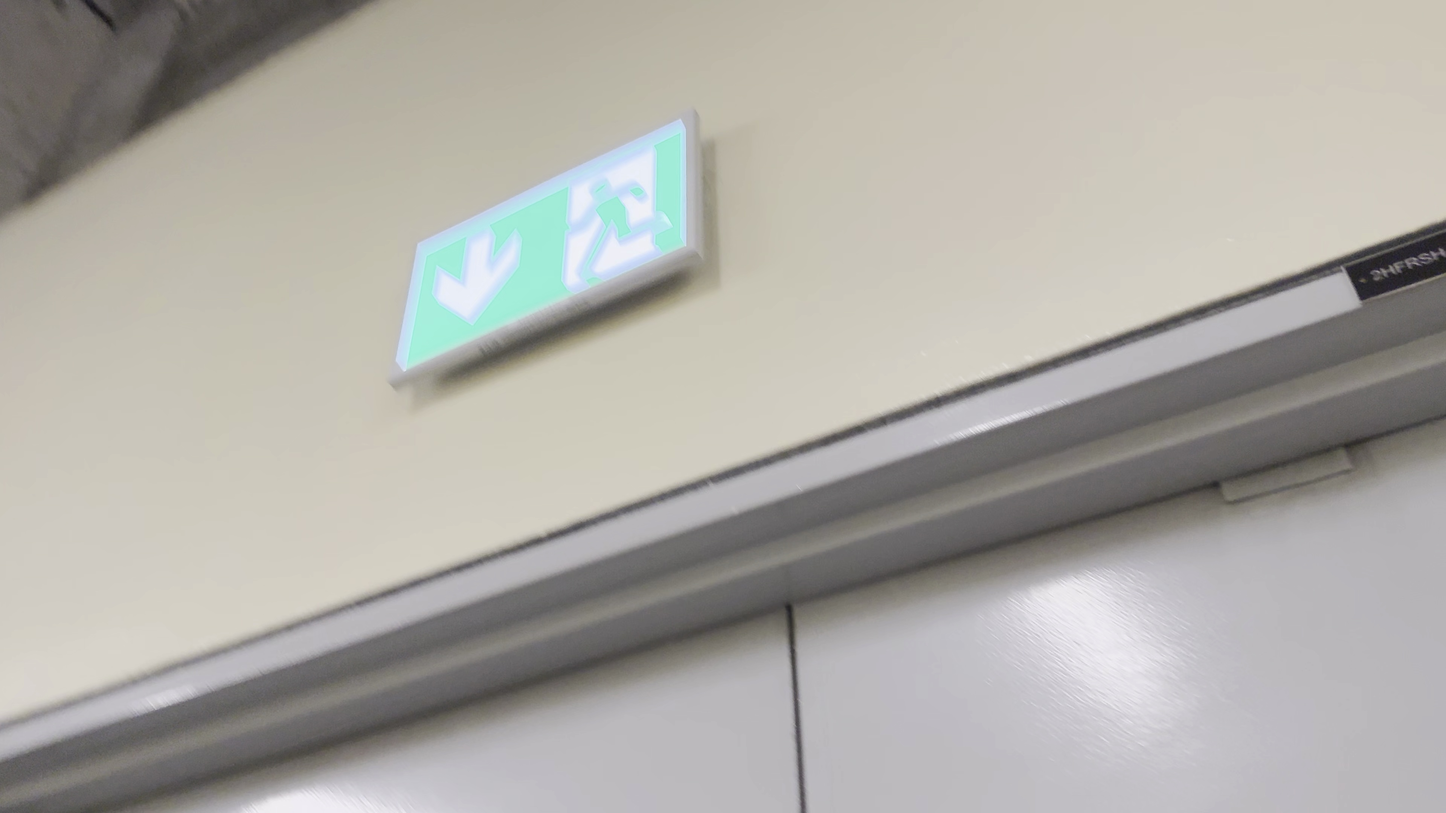emergency_exit: (391, 106, 706, 379)
